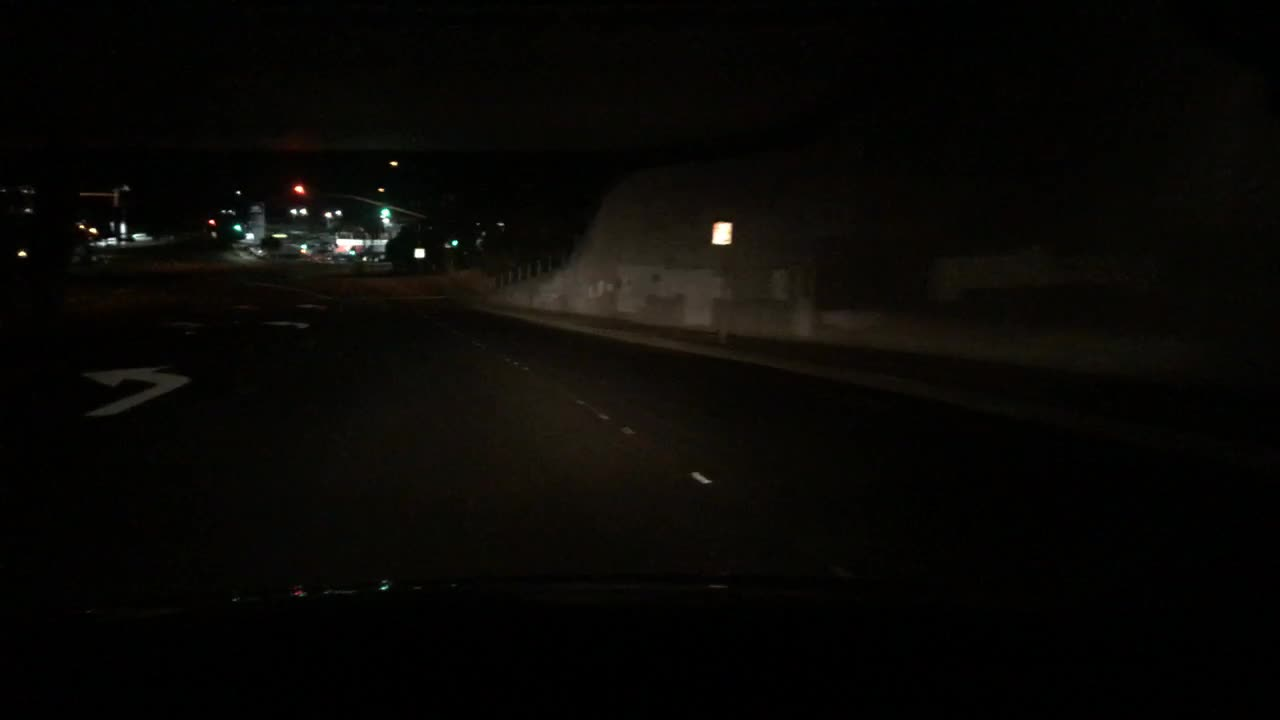car: (384, 224, 467, 268), (72, 218, 102, 240), (4, 245, 36, 264)
traffic light: (230, 221, 245, 234), (292, 181, 306, 194), (380, 207, 394, 217), (206, 216, 217, 224)
traffic sign: (707, 215, 733, 245), (360, 249, 379, 261), (118, 221, 125, 234)
